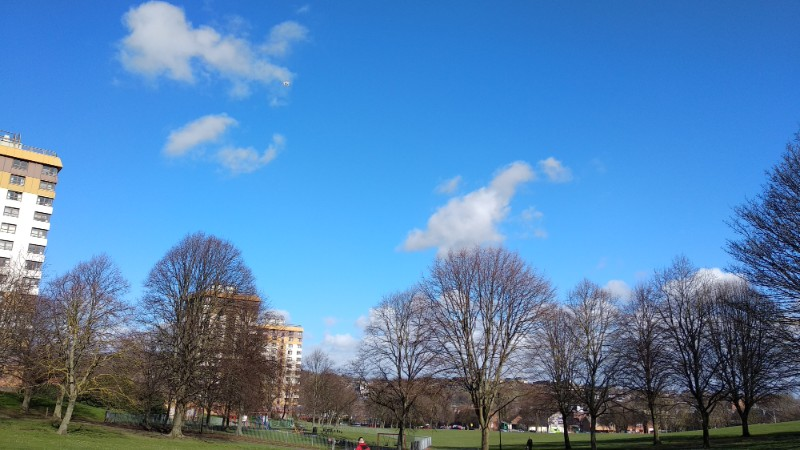drone: (281, 80, 290, 88)
